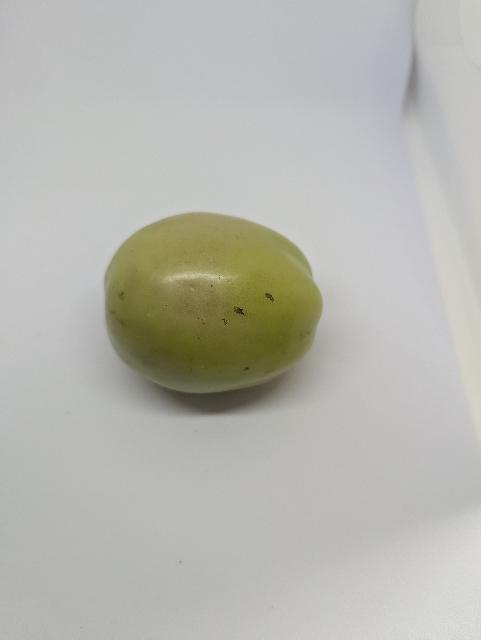green: (86, 196, 348, 402)
